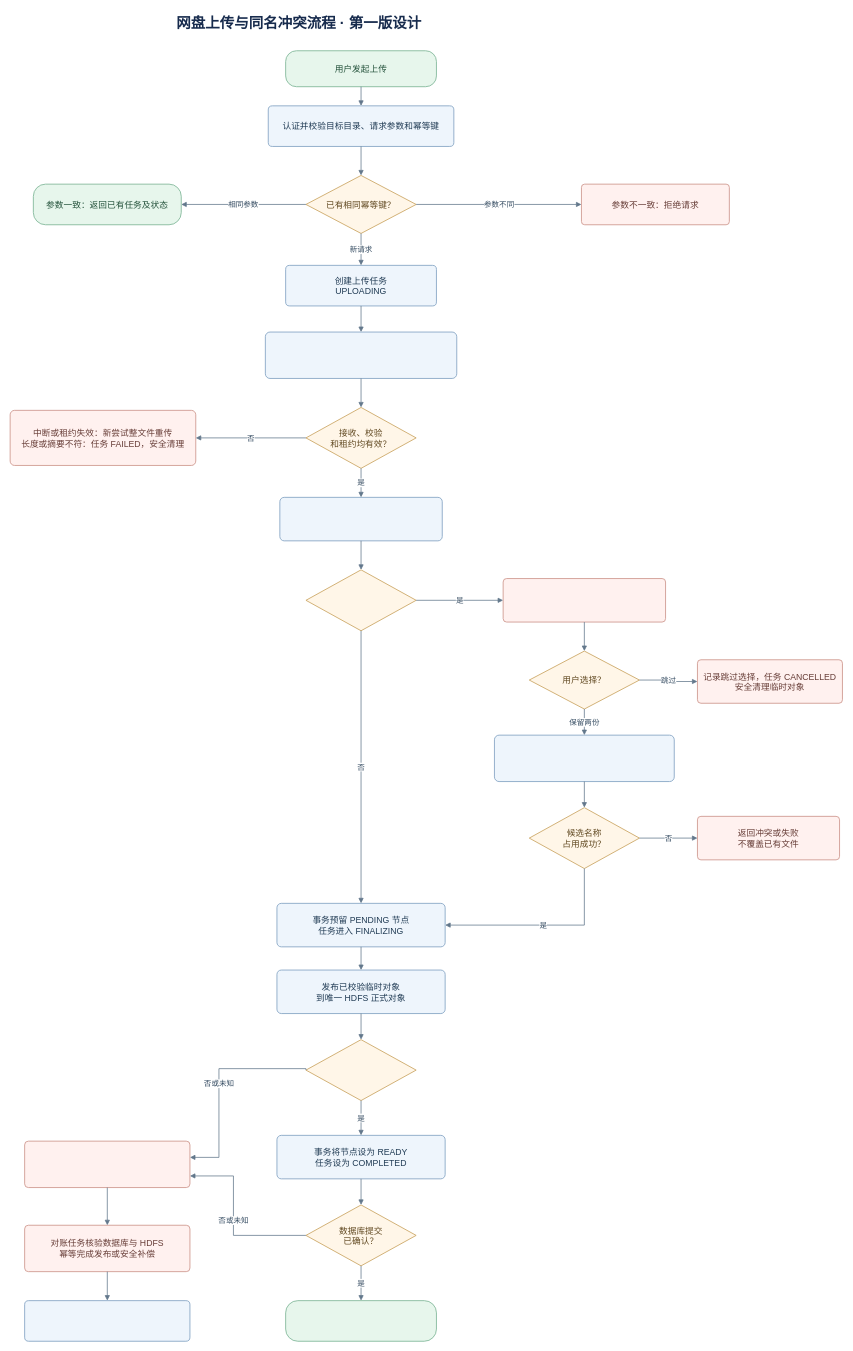
The diagram is 853 pixels wide and 1351 high, and some of its shapes have lost their labels. The box of each missing label's shape, as (x1, y1, x2, y2) in pixels:
发布成功且 结果已确认？: (305, 1039, 416, 1101)
同名或并发 占名失败？: (305, 569, 416, 631)
客户端查询任务状态 恢复完成后取得最终结果: (24, 1300, 190, 1341)
异常或结果未知：不报告成功 按实际状态进入恢复处理: (24, 1140, 190, 1188)
提交 complete 锁定并重新验证目标目录: (279, 497, 442, 541)
整文件上传：本次尝试使用独立临时对象 接收租约与状态控制并发: (265, 331, 457, 379)
记录保留两份，重新锁目录生成候选名 唯一约束竞争时有限重试: (494, 734, 674, 782)
返回 409 NAME_CONFLICT 上传任务进入 CONFLICT: (502, 578, 666, 622)
返回成功，文件可见: (285, 1300, 437, 1341)
